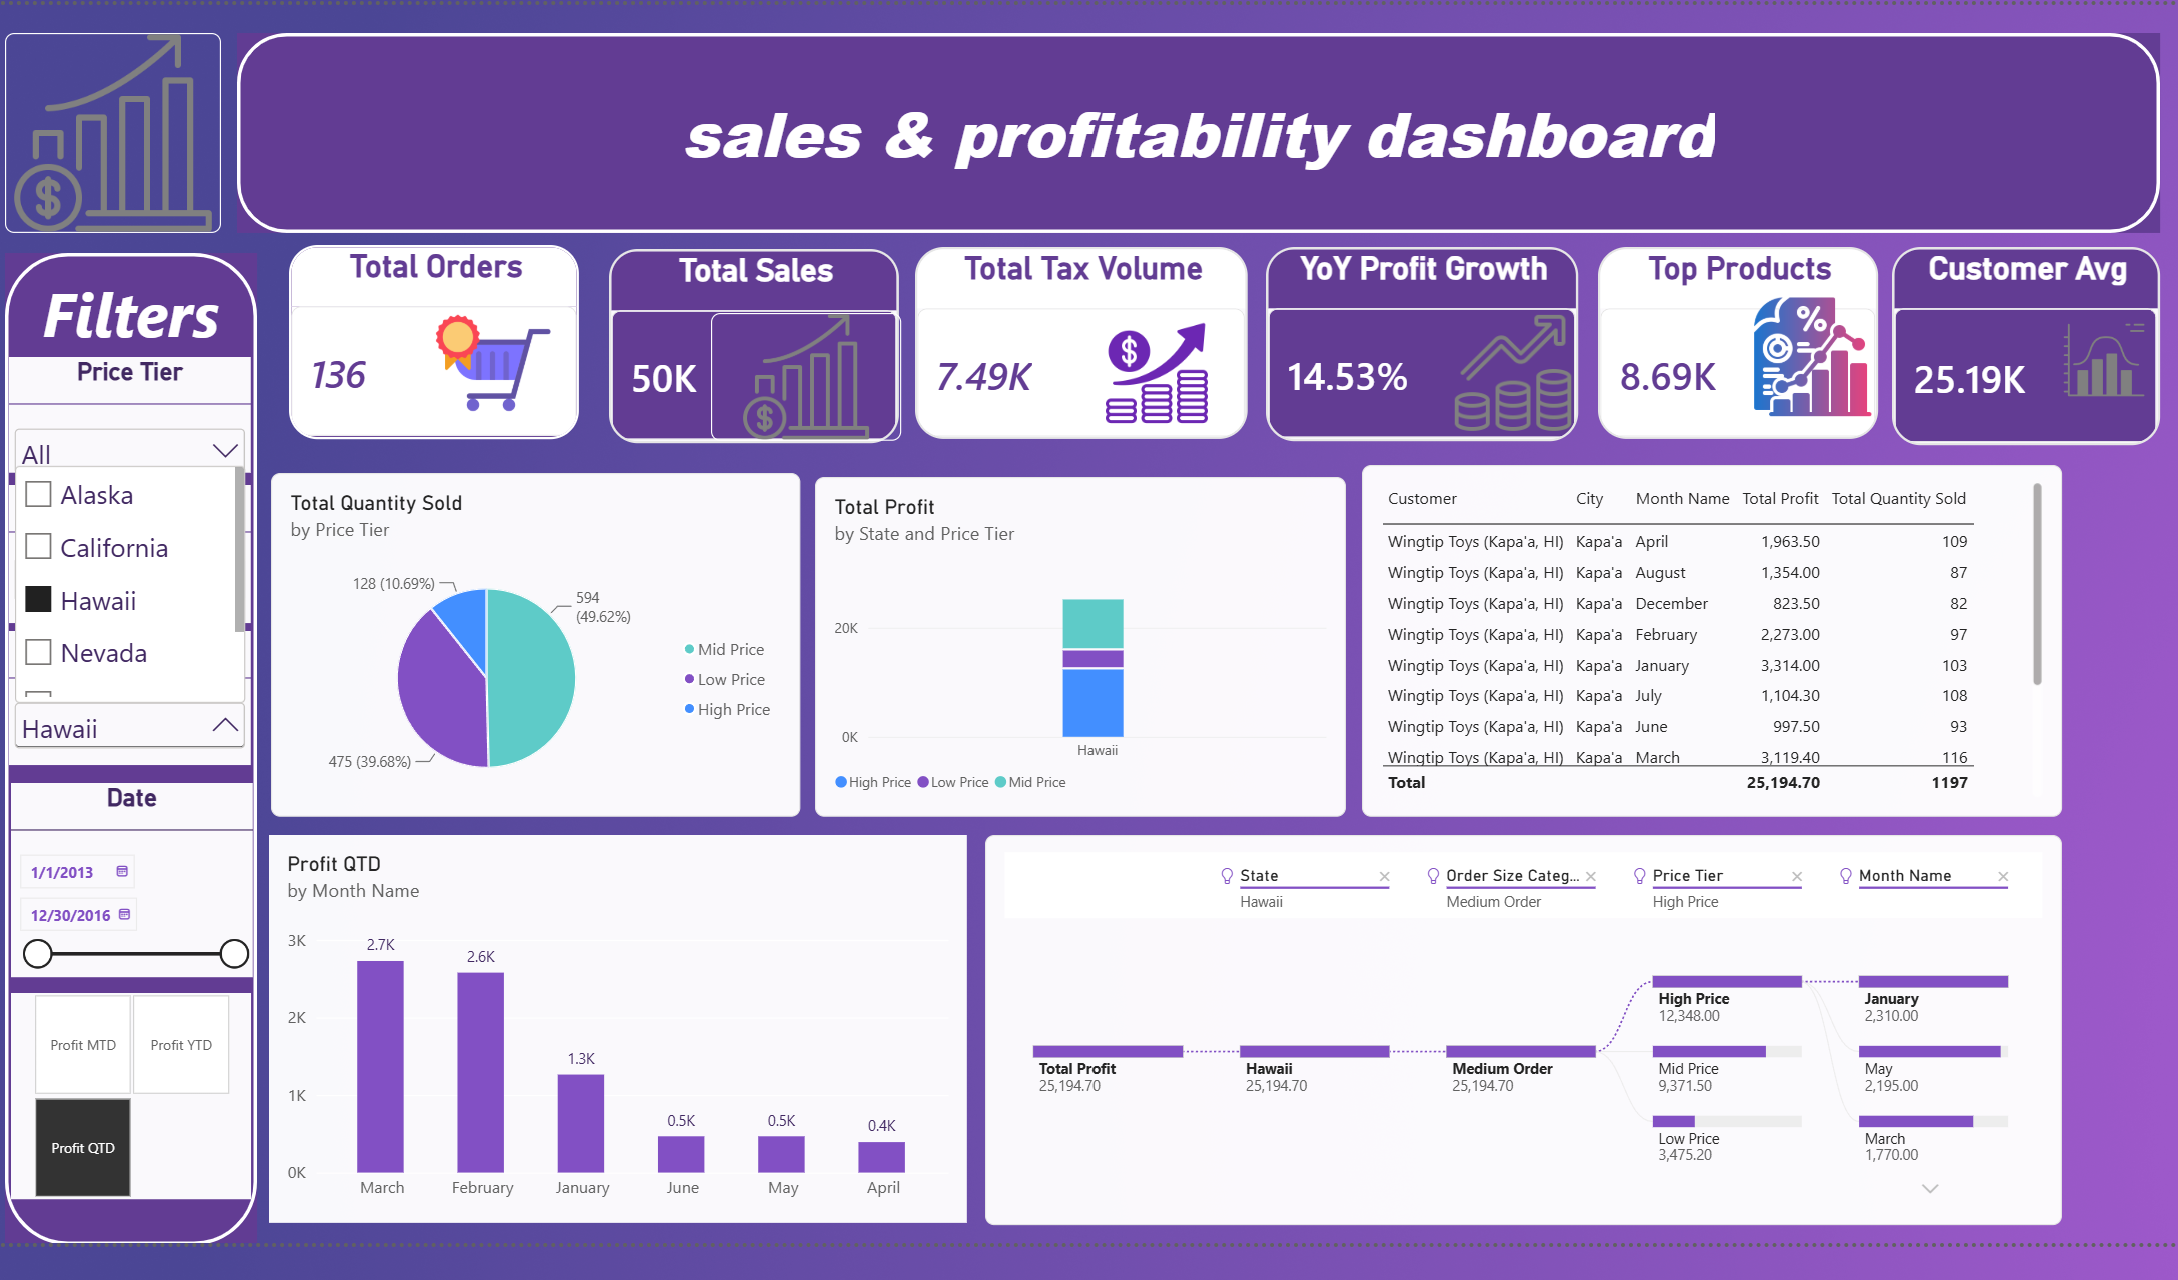

What the dashboard file says about the page in this screenshot:
{"tool":"powerbi","page":{"name":"DashBoard","canvas":[1920,1080],"ordinal":2},"visuals":[{"type":"cardVisual","title":"Total Orders","fields":{"Data":["Key Measures.Total Orders"]},"box":[261.8,209.5,253.1,169.3],"z":0},{"type":"shape","box":[216.4,24.4,1677.4,174.5],"z":1000},{"type":"shape","box":[14,216.4,219.9,865.7],"z":2000},{"type":"cardVisual","title":"Total Tax Volume","fields":{"Data":["Key Measures.Total Tax Collected"]},"box":[808.1,211.2,289.7,167.6],"z":3000},{"type":"cardVisual","title":"YoY Profit Growth","fields":{"Data":["Key Measures.Sales YoY Growth %"]},"box":[1113.6,211.2,272.3,169.3],"z":4000},{"type":"cardVisual","title":"Top Products ","fields":{"Data":["Key Measures.Top 5 Products Profit"]},"box":[1403.3,211.2,244.4,167.6],"z":5000},{"type":"slicer","title":"Price Tier","fields":{"Values":["DimStockItem2.Price Tier"]},"box":[17.5,307.2,211.2,101.2],"z":6000},{"type":"slicer","title":"Order Size Category","fields":{"Values":["FactSales1.Order Size Category"]},"box":[17.5,418.9,211.2,120.4],"z":7000},{"type":"slicer","title":"State","fields":{"Values":["Dimcity6.State"]},"box":[17.5,546.3,211.2,116.9],"z":8000},{"type":"pieChart","fields":{"Category":["DimStockItem2.Price Tier"],"Y":["Key Measures.Total Quantity Sold"]},"box":[245.9,408.1,462.2,300],"z":9000},{"type":"clusteredColumnChart","fields":{"Category":["DimDate4.Month Name"],"Y":["Key Measures.Profit QTD"]},"box":[244.4,724.4,609.2,338.6],"z":10000},{"type":"columnChart","fields":{"Category":["Dimcity6.State"],"Series":["DimStockItem2.Price Tier"],"Y":["Key Measures.Total Profit"]},"box":[720.9,411.9,462.5,296.7],"z":11000},{"type":"decompositionTreeVisual","fields":{"Analyze":["Key Measures.Total Profit"],"ExplainBy":["FactSales1.Order Size Category","DimStockItem2.Price Tier","Dimcity6.State","DimDate4.Month Name"]},"box":[869.2,724.4,939.1,340.4],"z":12000},{"type":"tableEx","fields":{"Values":["DimCustomer5.Customer","Dimcity6.City","DimDate4.Month Name","Key Measures.Total Profit","Key Measures.Total Quantity Sold"]},"box":[1197.4,401.5,610.9,307.2],"z":13000},{"type":"cardVisual","title":"Customer Avg ","fields":{"Data":["Key Measures.Avg Sales Per Customer"]},"box":[1659.9,211.2,233.9,172.8],"z":14000},{"type":"image","box":[14,24.4,188.5,174.5],"z":15000},{"type":"slicer","title":"Date","fields":{"Values":["DimDate4.Date"]},"box":[19.2,679,211.2,169.3],"z":16000},{"type":"image","box":[1523.8,247.9,136.1,118.7],"z":17000},{"type":"image","box":[974,260.1,89,122.2],"z":18000},{"type":"image","box":[1272.4,267.1,113.5,108.2],"z":19000},{"type":"image","box":[377,230.4,122.2,151.9],"z":20000},{"type":"image","box":[1808.3,247.9,73.3,123.9],"z":21000},{"type":"slicer","fields":{"Values":["Time Frame Selector.Time Frame Selector"]},"box":[19.2,862.3,209.5,179.8],"z":22000},{"type":"cardVisual","title":"Total Sales","fields":{"Data":["Key Measures.Total Revenue"]},"box":[541.1,212.9,253.1,169.3],"z":24000},{"type":"image","box":[630.1,268.8,165.8,111.7],"z":25000}]}

Visuals, with their boxes in screenshot pixels (x1, y1, x2, y2):
"Total Orders" cardVisual: crop(287, 237, 580, 434)
shape: crop(234, 23, 2177, 225)
shape: crop(0, 245, 254, 1249)
"Total Tax Volume" cardVisual: crop(920, 239, 1256, 434)
"YoY Profit Growth" cardVisual: crop(1275, 239, 1590, 436)
"Top Products " cardVisual: crop(1611, 239, 1894, 434)
"Price Tier" slicer: crop(3, 351, 248, 468)
"Order Size Category" slicer: crop(3, 480, 248, 620)
"State" slicer: crop(3, 628, 248, 764)
pieChart - DimStockItem2.Price Tier x Key Measures.Total Quantity Sold: crop(268, 468, 804, 816)
clusteredColumnChart - DimDate4.Month Name x Key Measures.Profit QTD: crop(266, 834, 973, 1227)
columnChart - Dimcity6.State x DimStockItem2.Price Tier: crop(819, 472, 1355, 816)
decompositionTreeVisual - Key Measures.Total Profit x FactSales1.Order Size Category: crop(991, 834, 2080, 1229)
tableEx - DimCustomer5.Customer x Dimcity6.City: crop(1372, 460, 2080, 816)
"Customer Avg " cardVisual: crop(1908, 239, 2177, 440)
image: crop(0, 23, 218, 225)
"Date" slicer: crop(5, 782, 250, 978)
image: crop(1750, 282, 1908, 420)
image: crop(1113, 296, 1216, 438)
image: crop(1459, 304, 1590, 430)
image: crop(420, 262, 562, 438)
image: crop(2080, 282, 2165, 426)
slicer - Time Frame Selector.Time Frame Selector: crop(5, 994, 248, 1203)
"Total Sales" cardVisual: crop(611, 241, 904, 438)
image: crop(714, 306, 906, 436)
